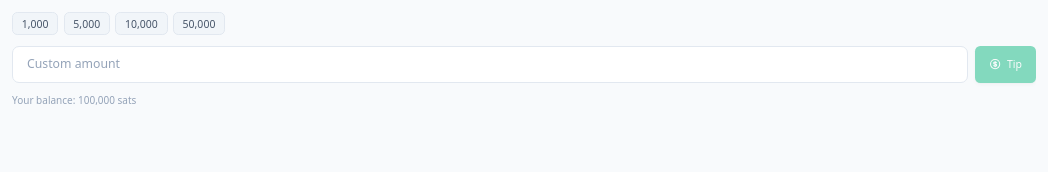
TipForm › successful tip › shows success message with owner username
Click the button "1,000": {"x": 35, "y": 24} [12,12,58,35]
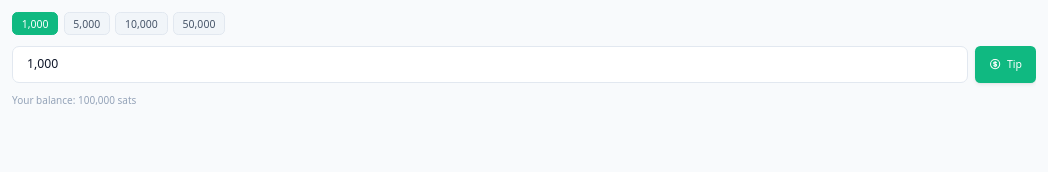
Submit the form, box [12,12,1036,108]
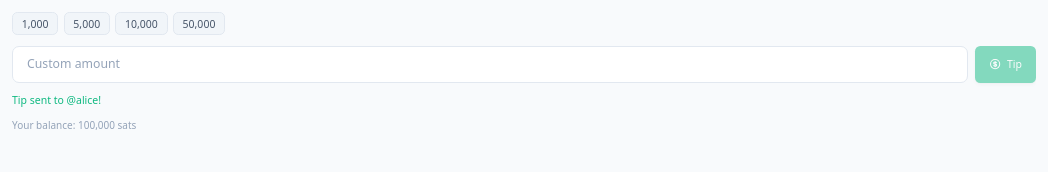
expect the text "Tip sent to @alice!" is shown: met, box [12,93,101,107]
